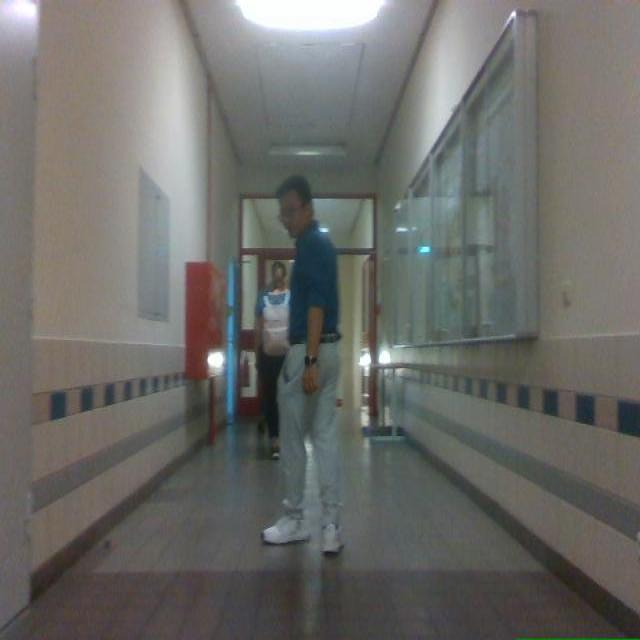humans: (262, 176, 342, 553), (254, 262, 289, 458), (257, 391, 265, 435)
